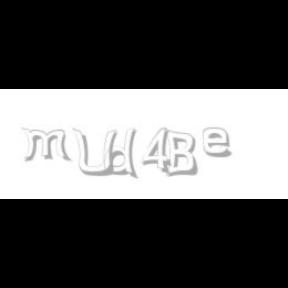4: (140, 128, 171, 174)
B: (164, 128, 198, 178)
U: (72, 128, 116, 178)
d: (104, 128, 142, 180)
e: (202, 128, 235, 158)
m: (21, 128, 73, 162)
